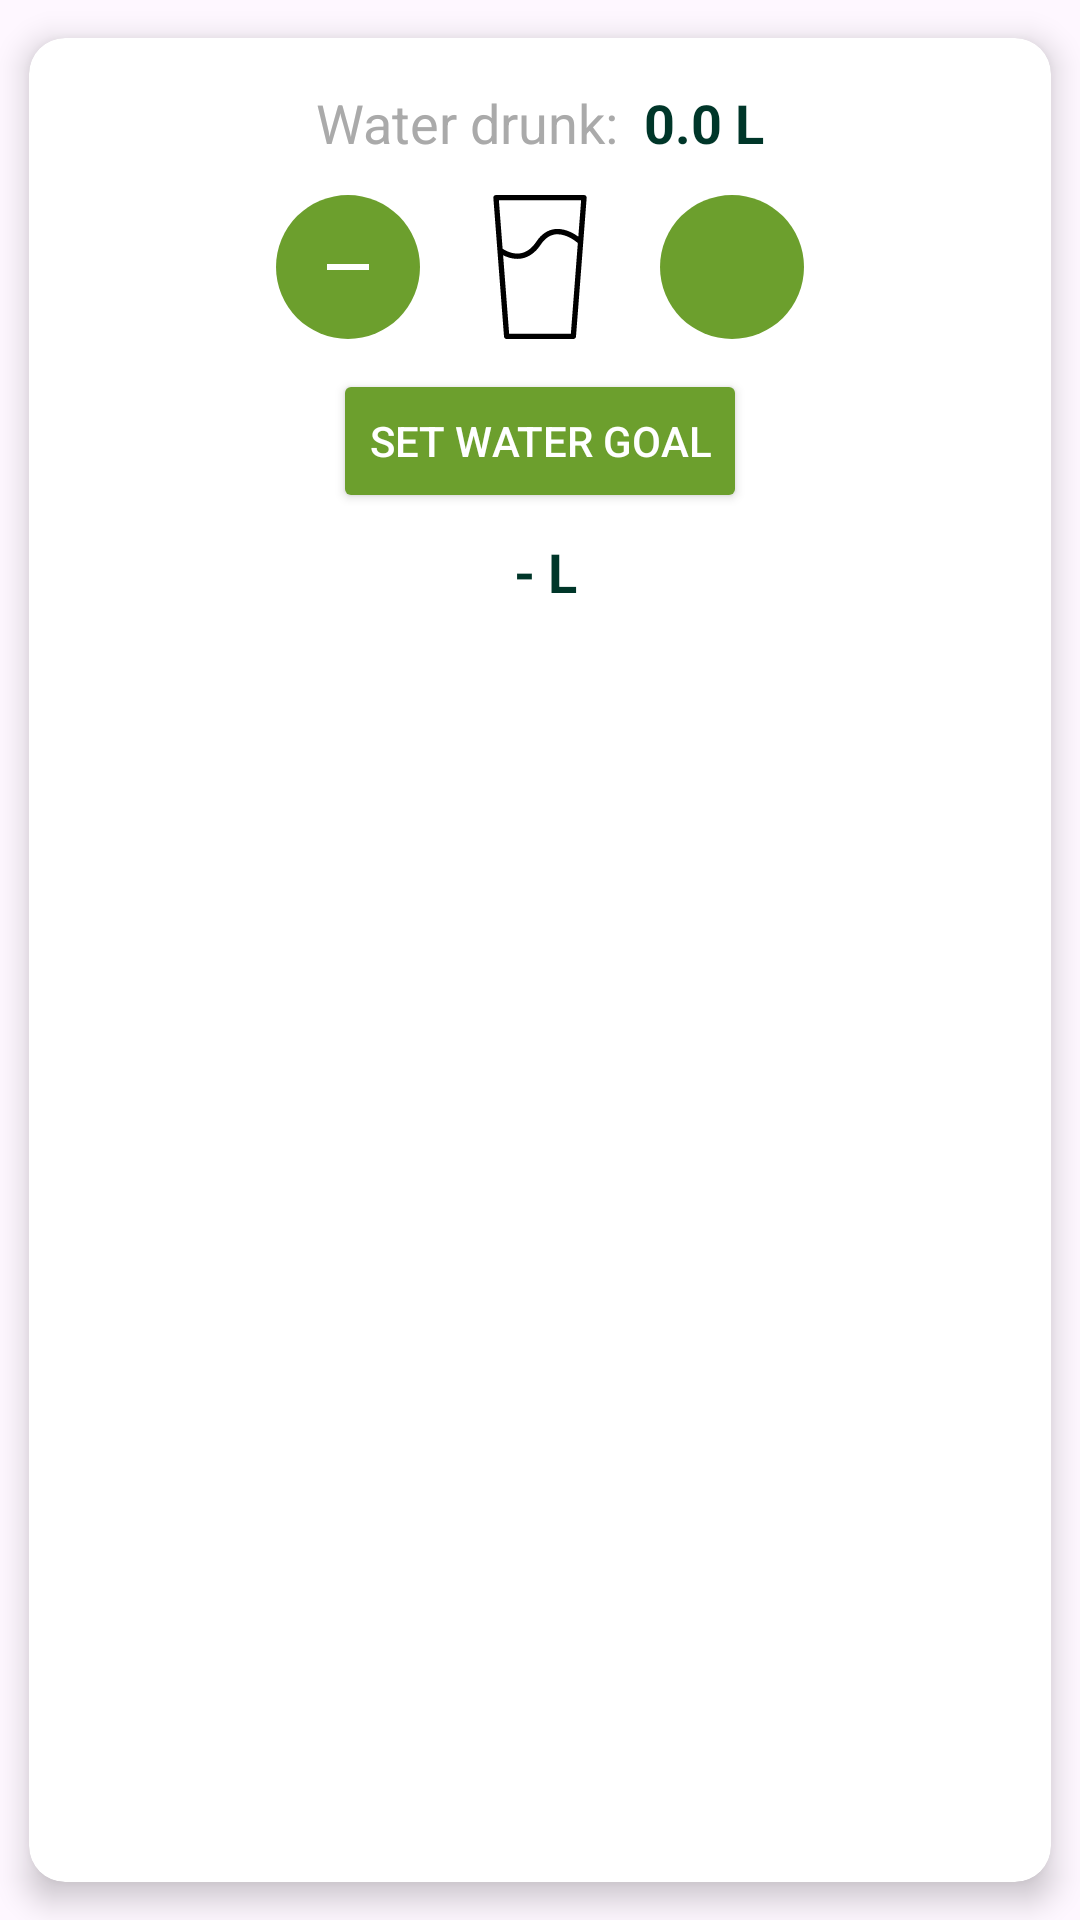

Named icons in this screenshot (1080px×1920px) and their bounding boxes, (x1, y1, x2, y2):
Decrease: (276, 195, 420, 339)
Water Glass: (493, 195, 587, 339)
